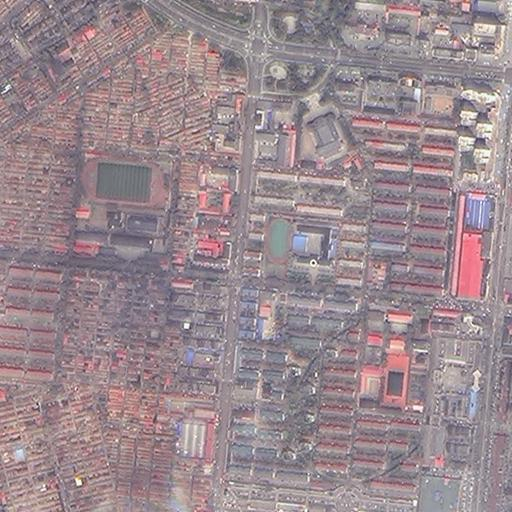school: (68, 151, 174, 256), (263, 217, 336, 282), (356, 347, 406, 416)
